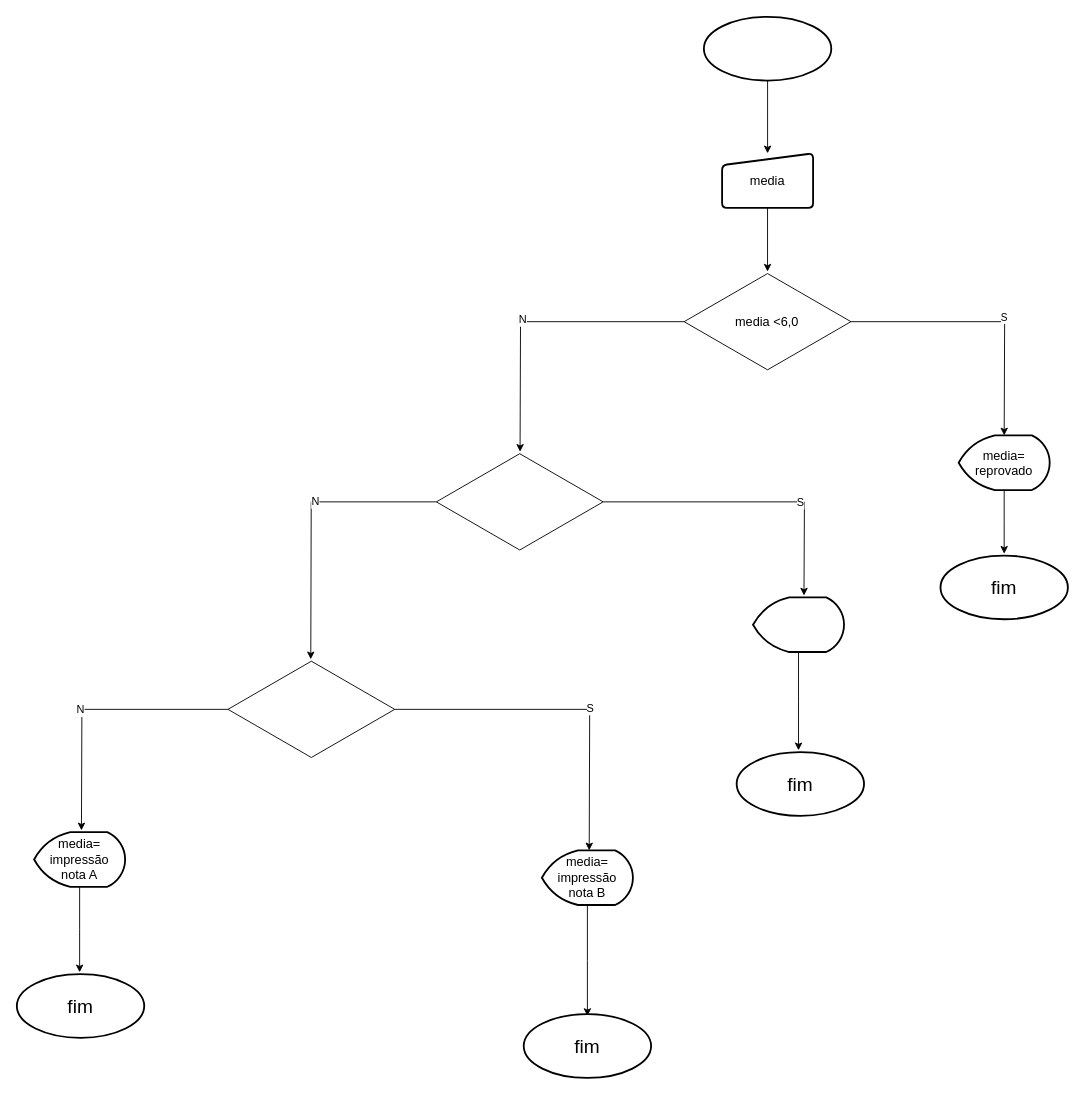
The diagram is 1084 pixels wide and 1094 high, and some of its shapes have lost their labels. Each missing label, with the box of its shape:
inicio: (703, 15, 832, 81)
media >=6 && media <=7,5: (435, 451, 603, 552)
media >=7,6 && media <=8,9: (227, 658, 395, 759)
media= impressão nota C: (752, 596, 844, 652)
